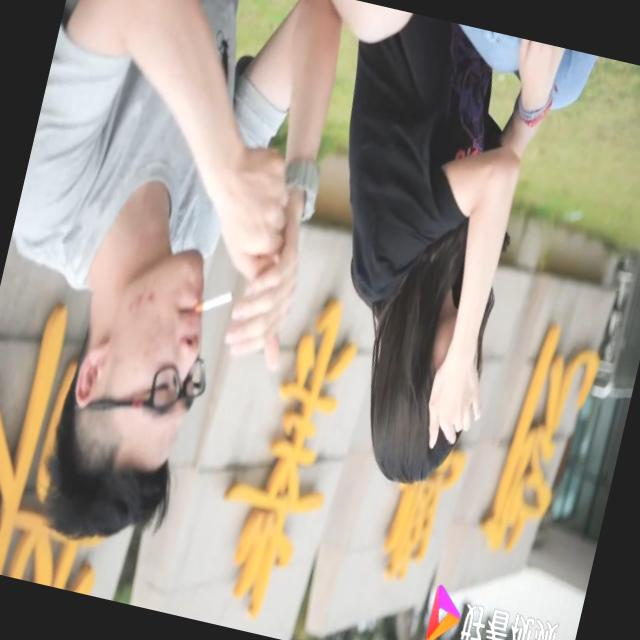smoke: (187, 271, 240, 334)
